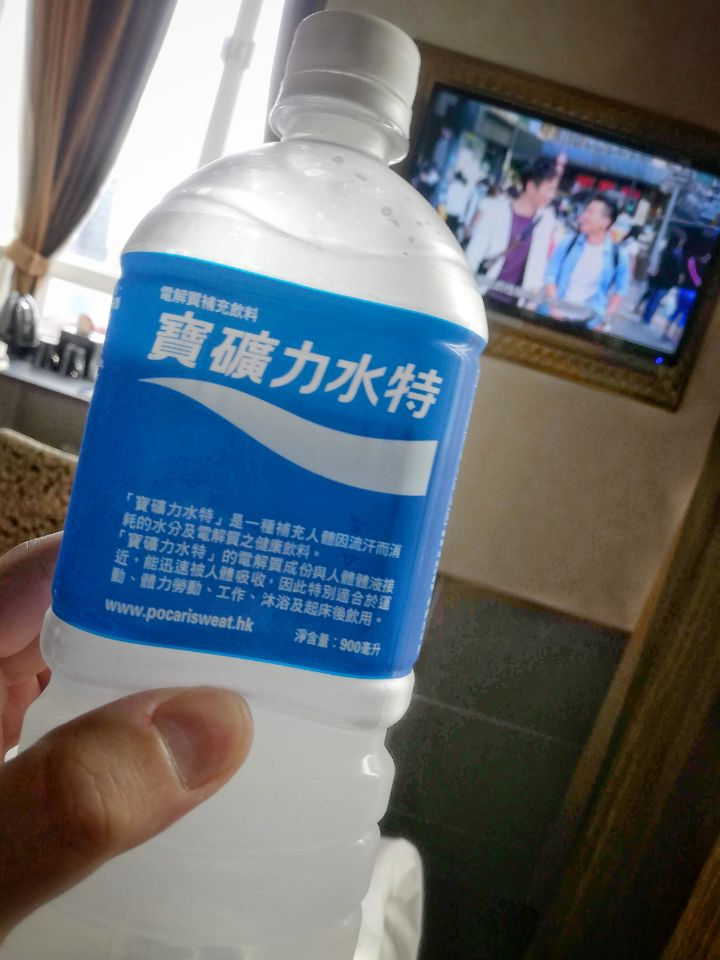POCARI SWEAT: (72, 7, 487, 960)
